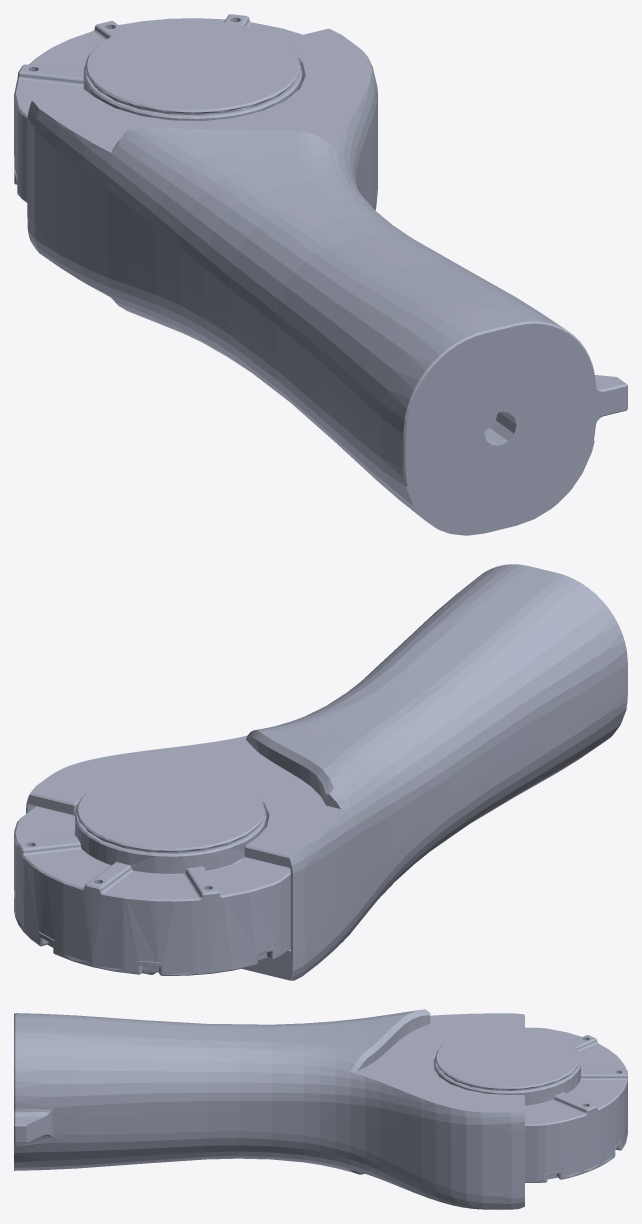
Rendered from left_shoulder_yaw_link.obj.
3 renders of one model, top to bottom at view 1: azimuth 30°, elevation 25°; view 2: azimuth 150°, elevation 25°; view 3: azimuth 270°, elevation 25°, orthographic. The views are drawn at different scales.
Visible parts, largest first — view 1: left_shoulder_yaw_link-mesh; view 2: left_shoulder_yaw_link-mesh; view 3: left_shoulder_yaw_link-mesh.
Part boxes in pixels (box(x1,y1,x2,y2)): left_shoulder_yaw_link-mesh: box(14, 14, 627, 535); left_shoulder_yaw_link-mesh: box(14, 564, 627, 980); left_shoulder_yaw_link-mesh: box(14, 1009, 627, 1209).
Bounding box in the file's own units: 0.097 × 0.06 × 0.2462.
